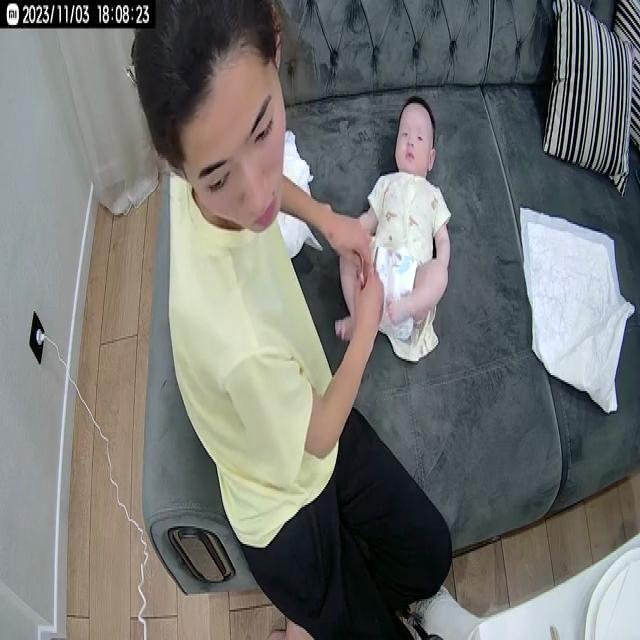baby: (336, 94, 452, 361)
